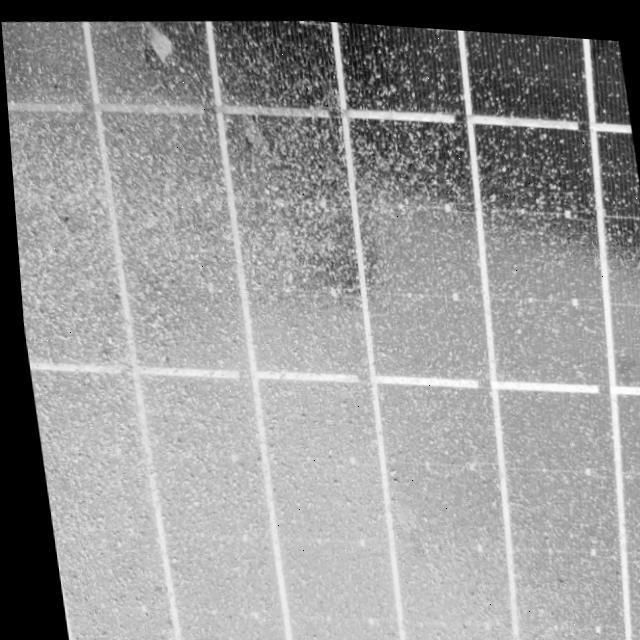Surface Contaminant: (4, 16, 640, 633)
